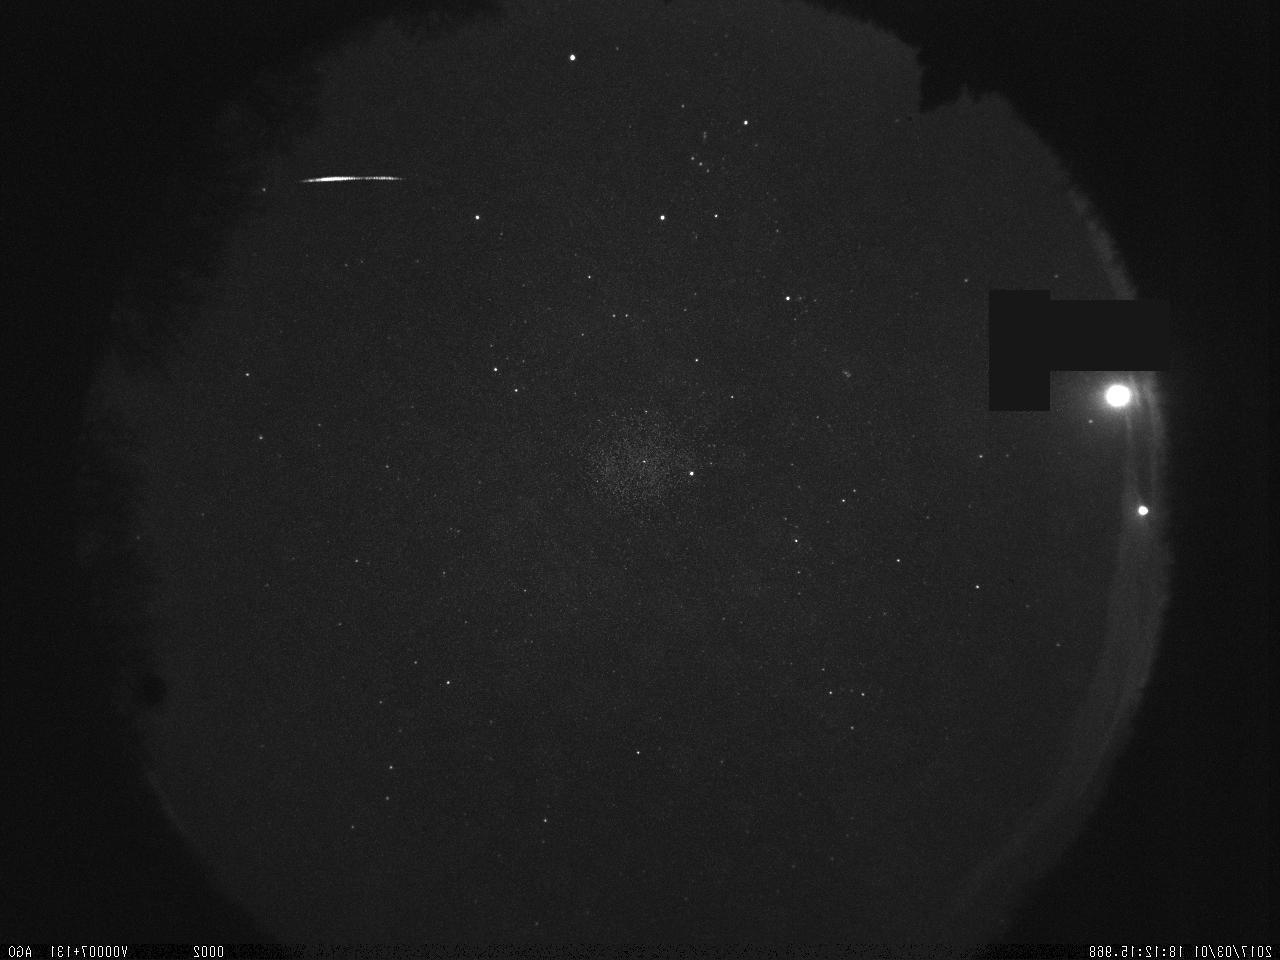meteor: (289, 162, 422, 203)
